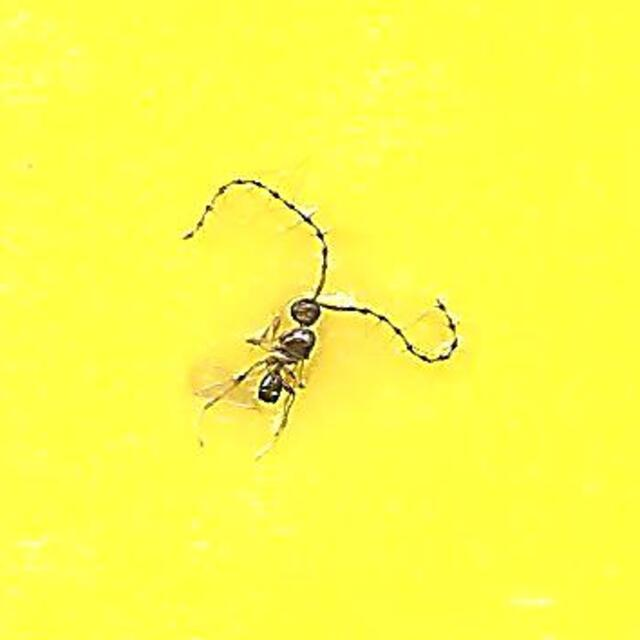Hymenoptera: (181, 179, 459, 461)
